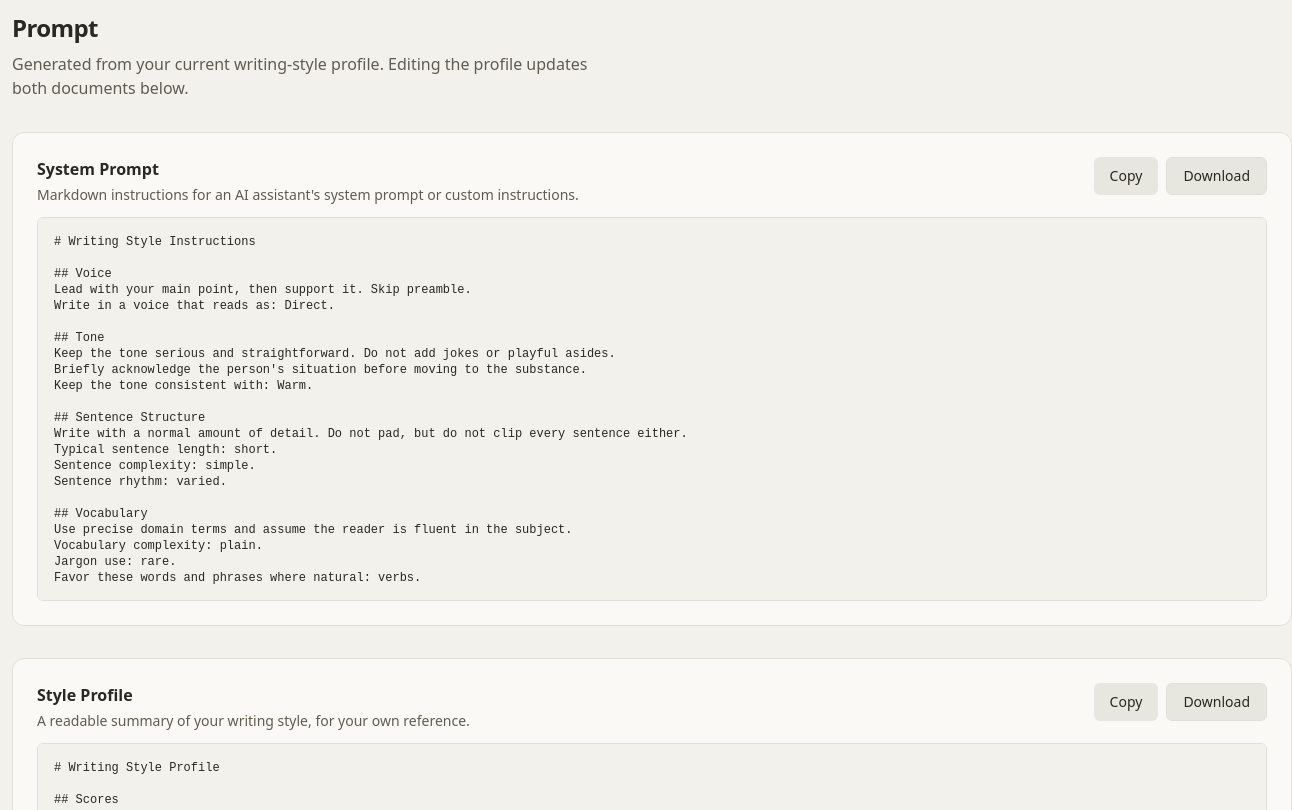
it: PromptPage › downloads the generated system prompt
The width and height of the screenshot is (1292, 810).
Click the button with aria-label "Download system prompt" at (1217, 176), box [1166,157,1267,195]
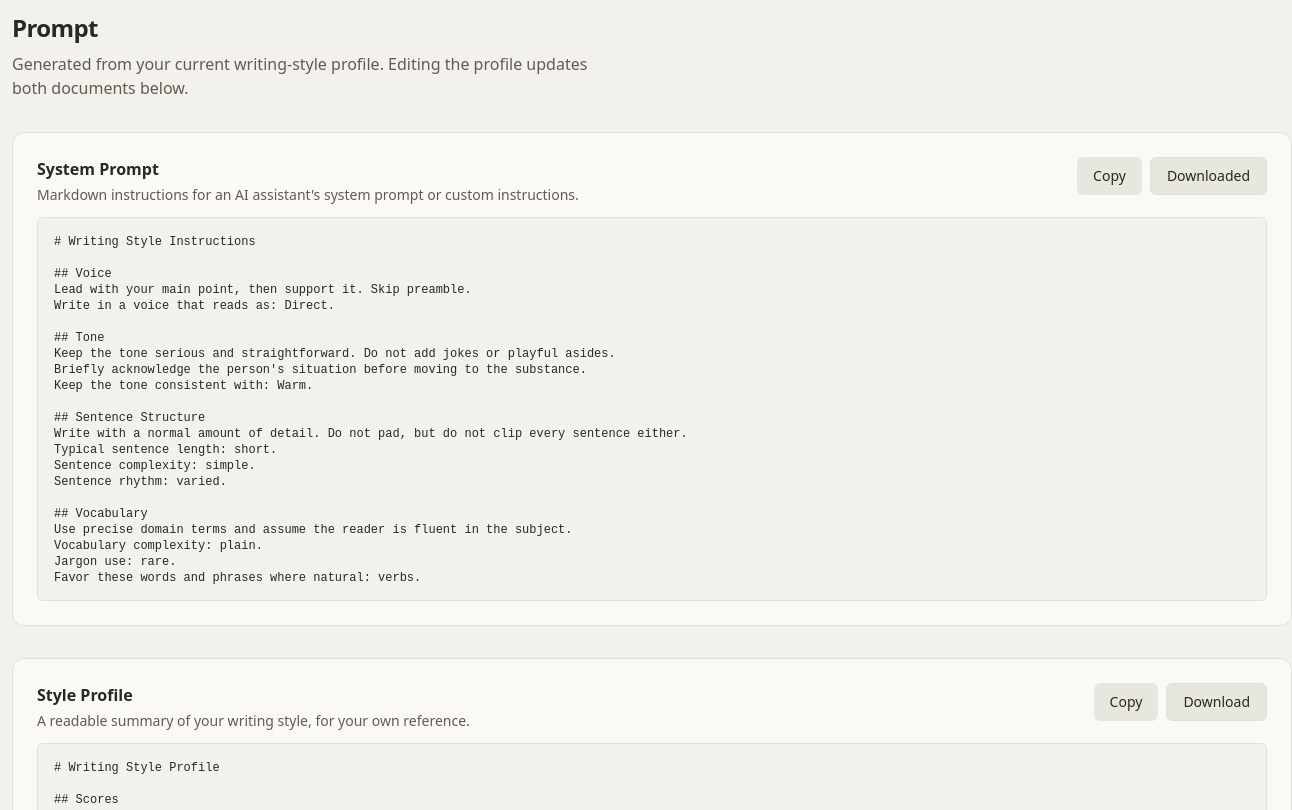
Check: the button with aria-label "Download system prompt" reads "Downloaded", box [1150,157,1267,195]
